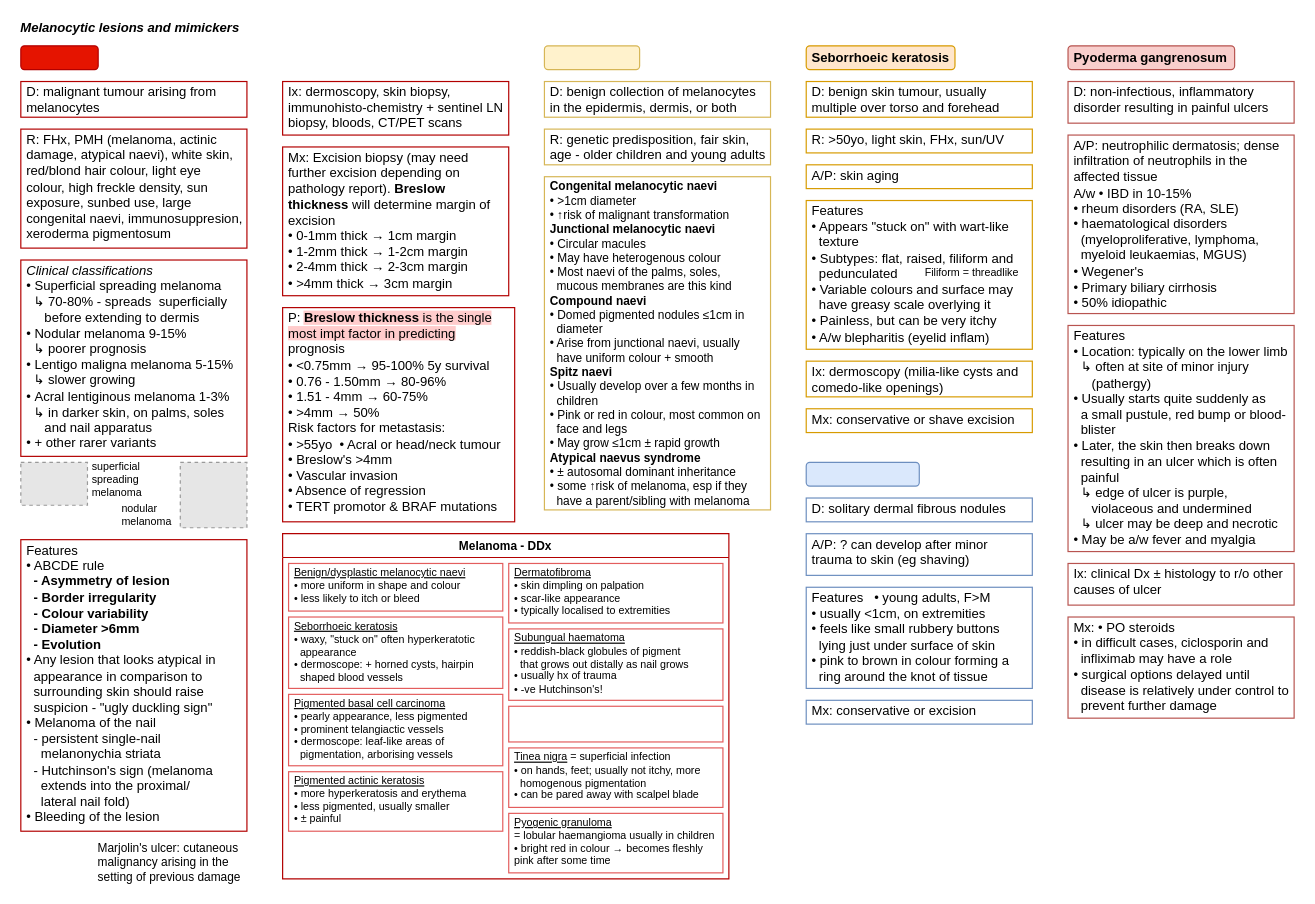
Image size: 1315x904. Some labels were removed from this diagram. Grey dashed boxes stand in for pictures. The centre of each missing label's shape, as x and y in pixels:
"Benign naevi" belongs at (x=591, y=57).
"Dermatofibroma" belongs at (x=862, y=473).
"Intracorneal haematoma • can be pared away with scalpel blade" belongs at (x=615, y=723).
"Melanoma" belongs at (x=59, y=57).
